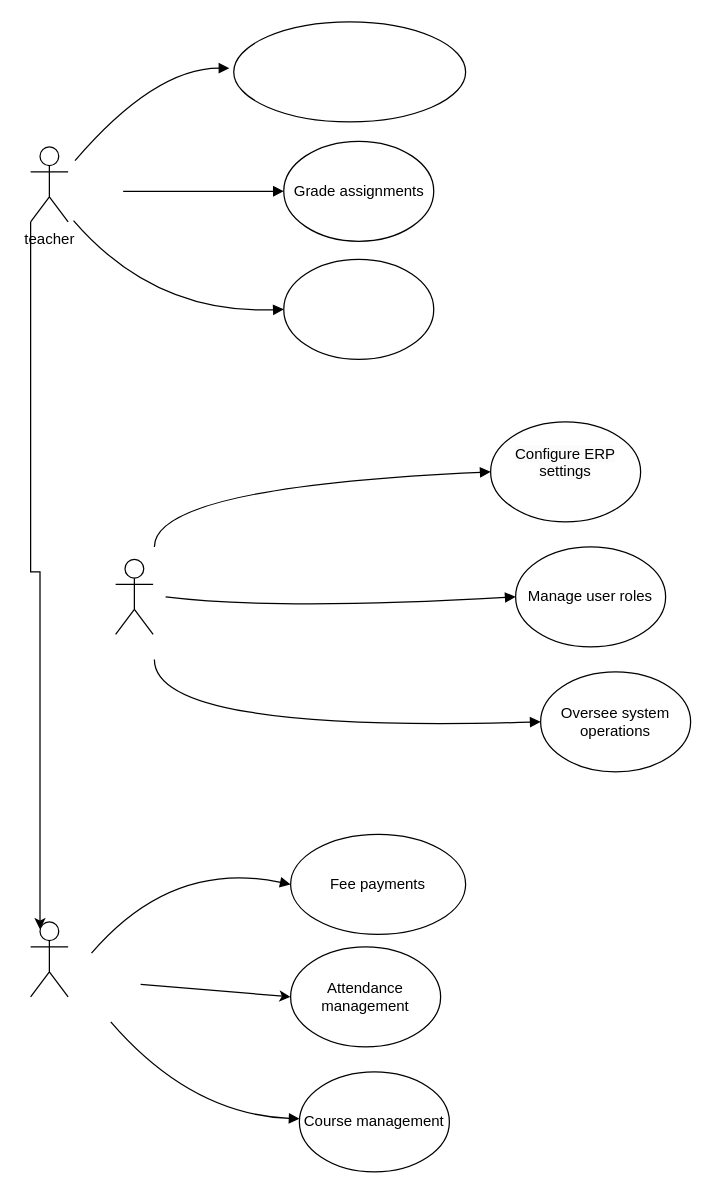
Image size: 713x1194. Some labels were removed from this diagram. Here are the shapes that lost their labels. From the top down, the centre of each, then its label:
[349,71]: Manage student records
[358,308]: Schedule
[133,596]: admin
[48,959]: student
